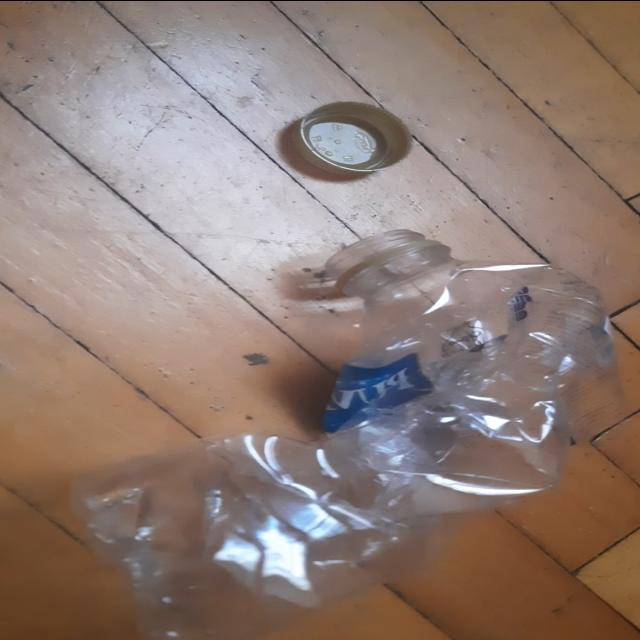Plastic: (69, 229, 615, 637)
